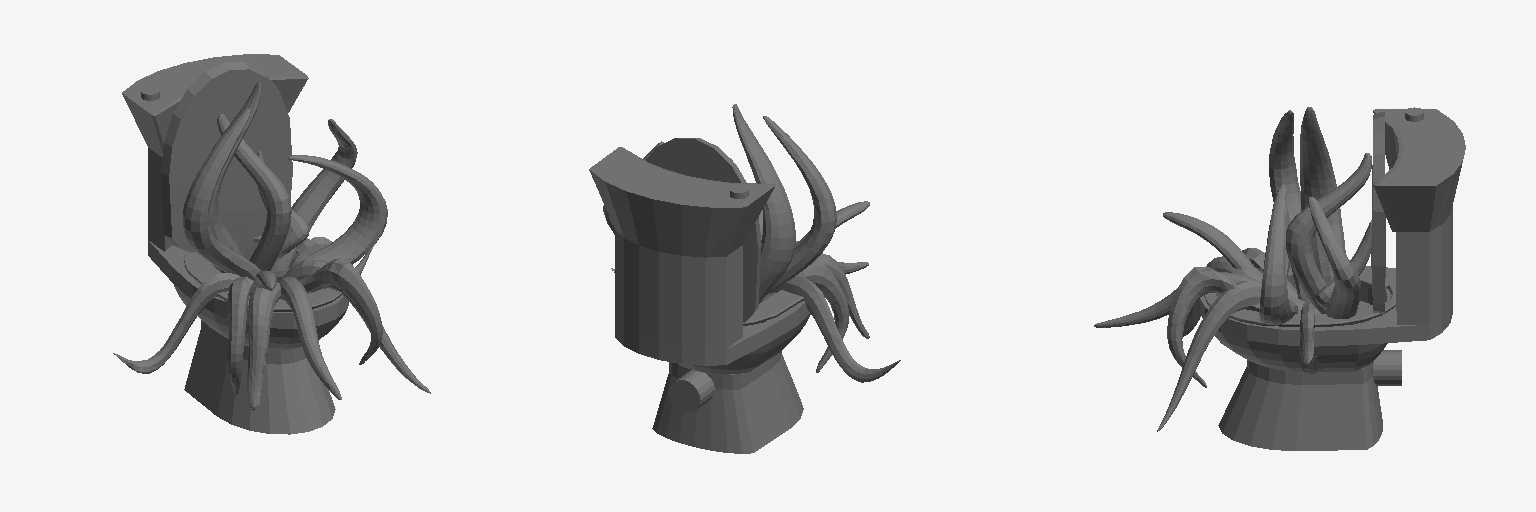
Rendered from toiletmimic.obj.
The picture shows the model from 3 angles: view 1: azimuth 30°, elevation 25°; view 2: azimuth 150°, elevation 25°; view 3: azimuth 270°, elevation 25°; orthographic projection.
Visible parts, largest first — view 1: polySurface13, PM3D_Sphere3D1; view 2: polySurface13, PM3D_Sphere3D1; view 3: polySurface13, PM3D_Sphere3D1.
Boxes of the visible parts, box(x1,y1,x2,y2) form: polySurface13: box(122, 54, 348, 434); PM3D_Sphere3D1: box(113, 82, 430, 409); polySurface13: box(589, 138, 815, 453); PM3D_Sphere3D1: box(603, 104, 900, 382); polySurface13: box(1200, 107, 1465, 450); PM3D_Sphere3D1: box(1094, 107, 1371, 431).
Bounding box in the file's own units: 200 × 219 × 232.